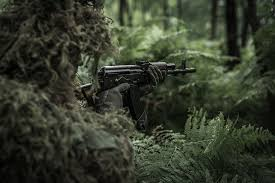gun: (74, 57, 197, 102)
